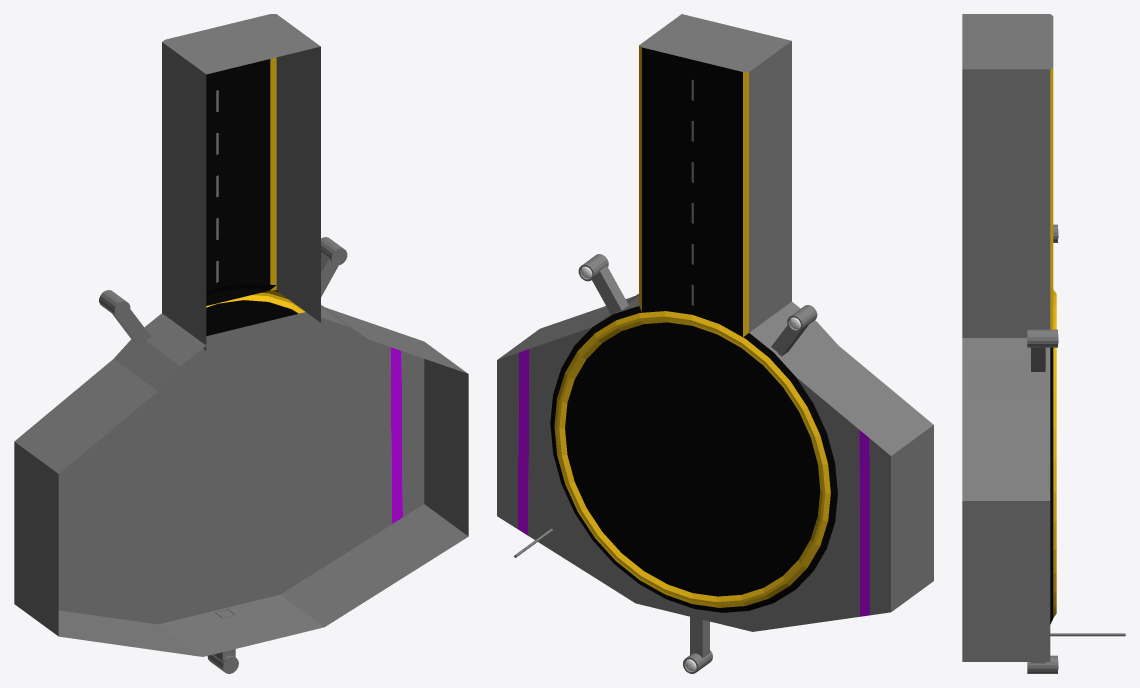
File: mesh_playerBase.fbx
The picture shows the model from 3 angles, left to right: view 1: azimuth 30°, elevation 25°; view 2: azimuth 150°, elevation 25°; view 3: azimuth 270°, elevation 25°; orthographic projection. The views are drawn at different scales.
Visible parts, largest first — view 1: 실린더; view 2: 실린더; view 3: 실린더.
Boxes of the visible parts, <box> form: 실린더: <box>14,14,468,673</box>; 실린더: <box>497,14,933,673</box>; 실린더: <box>962,14,1125,673</box>.
Bounding box in the file's own units: 1543 × 2293 × 538.
